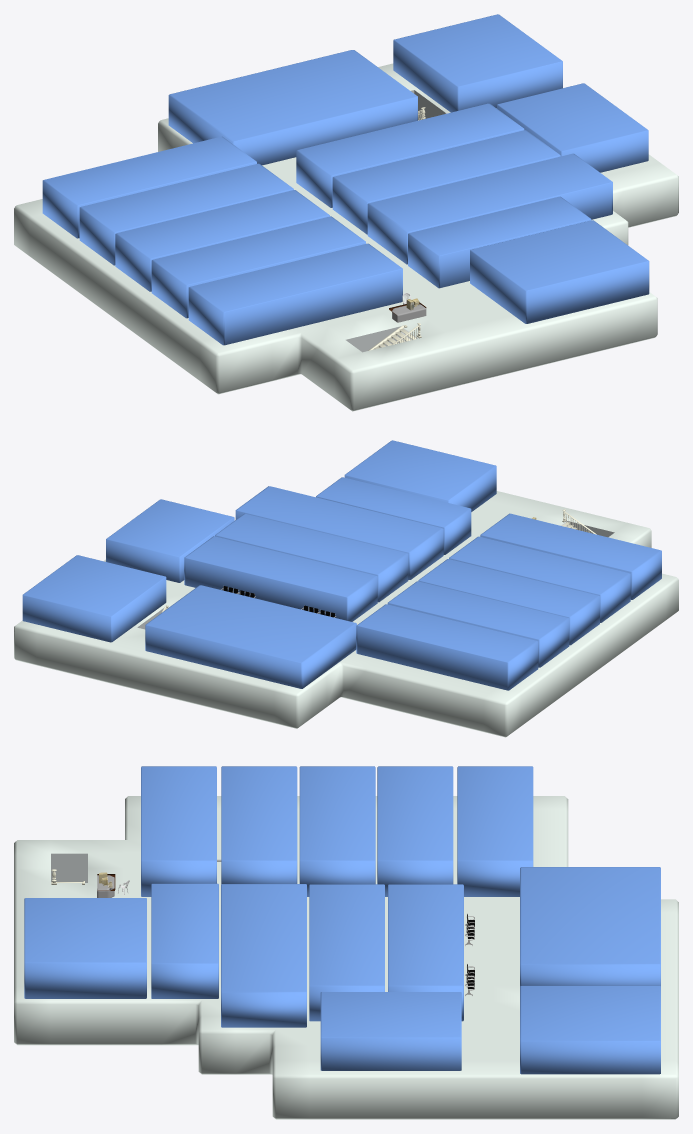
Rendered from 1764478995_Alaminos_2nd_floor.glb.
The picture shows the model from 3 angles, top to bottom: view 1: azimuth 30°, elevation 25°; view 2: azimuth 150°, elevation 25°; view 3: azimuth 270°, elevation 25°; orthographic projection. The views are drawn at different scales.
Parts seen in each view (by area): view 1: City Information Office; view 2: City Information Office; view 3: City Information Office.
Boxes of the visible parts, <box> form: City Information Office: <box>14,14,678,411</box>; City Information Office: <box>14,440,678,737</box>; City Information Office: <box>14,766,678,1119</box>.
Size of the model in its own units: 3.7 by 0.4981 by 3.7.
Materials: 28 (6 with a texture image).
